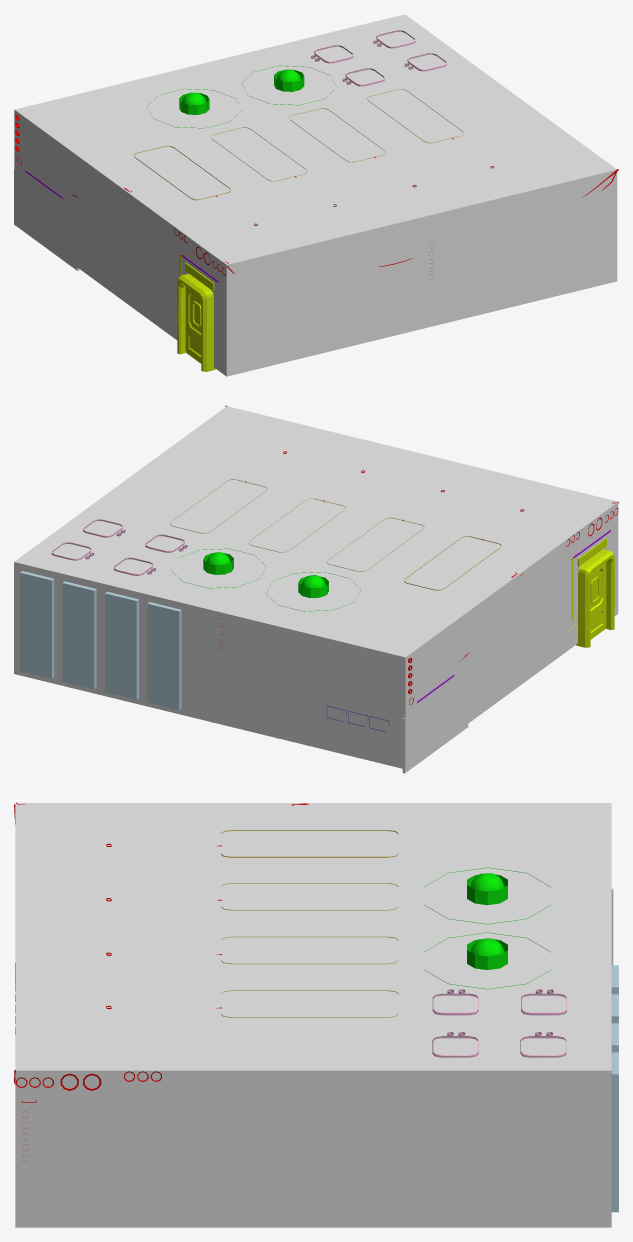
The model's file is HIVERNACLE.fbx.
3 renders of one model, top to bottom at view 1: azimuth 30°, elevation 25°; view 2: azimuth 150°, elevation 25°; view 3: azimuth 270°, elevation 25°, orthographic. The views are drawn at different scales.
Visible parts, largest first — view 1: HVLE_ROOF_01, HVLE_ROOM_01, pCube92, polySurface26 (×2), pCube93; view 2: HVLE_ROOF_01, HVLE_ROOM_01, pCube2, pCube22, pCube23, pCube24, pCube92, polySurface26 (×2), pCube93; view 3: HVLE_ROOF_01, HVLE_ROOM_01, polySurface26 (×2), pCube24, polySurface18.
Part boxes in pixels (x1,y1,x2,y2): HVLE_ROOF_01: (14,14,616,264); HVLE_ROOM_01: (14,110,617,376); pCube92: (177,274,215,371); polySurface26 (×2): (147,65,333,128); pCube93: (185,286,201,363); HVLE_ROOF_01: (14,406,617,657); HVLE_ROOM_01: (14,502,618,769); pCube2: (147,602,181,709); pCube22: (105,591,139,699); pCube23: (62,581,96,689); pCube24: (20,571,54,678); pCube92: (576,549,614,647); polySurface26 (×2): (171,548,361,611); pCube93: (590,562,606,639); HVLE_ROOF_01: (15,803,611,1070); HVLE_ROOM_01: (15,1070,611,1227); polySurface26 (×2): (424,867,550,989); pCube24: (611,1052,618,1212); polySurface18: (221,936,398,964).
Size of the model in its own units: 60.9 by 19.02 by 56.5.
